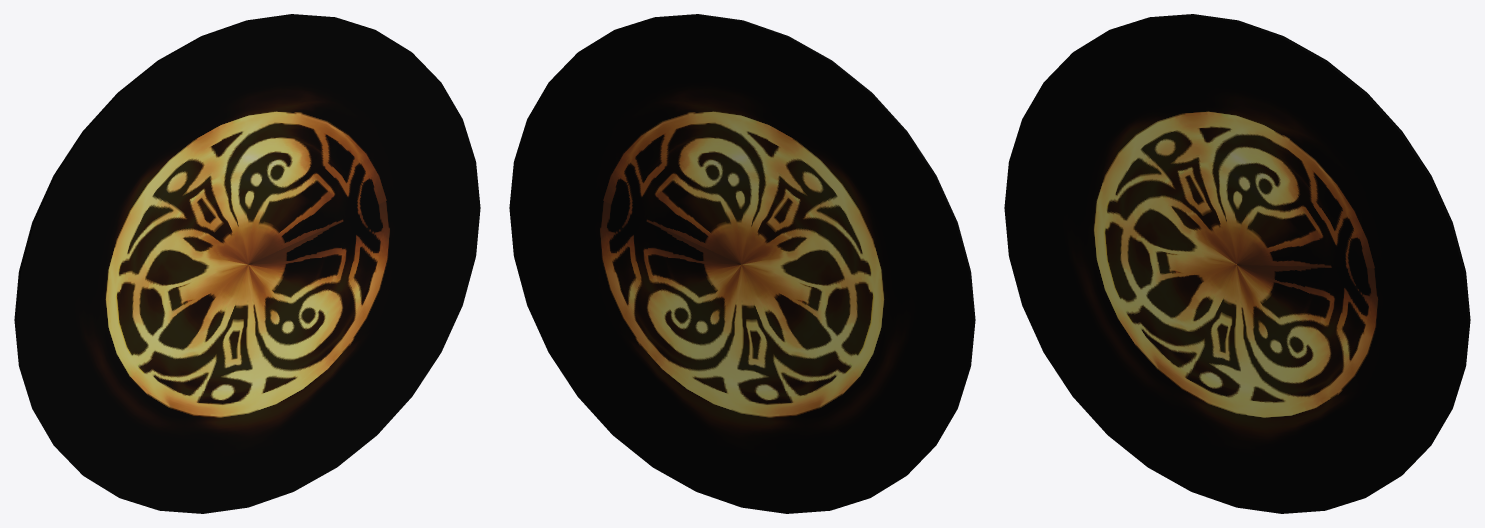
File: RuneCircle.fbx
3 renders of one model, left to right at view 1: azimuth 30°, elevation 25°; view 2: azimuth 150°, elevation 25°; view 3: azimuth 330°, elevation 25°, orthographic.
Parts seen in each view (by area): view 1: Circle2; view 2: Circle2; view 3: Circle2.
Boxes of the visible parts, left/top/right/bottom form: Circle2: left=14, top=14, right=480, bottom=513; Circle2: left=509, top=14, right=975, bottom=513; Circle2: left=1004, top=14, right=1470, bottom=513.
Bounding box in the file's own units: 626 × 626 × 4.25.
